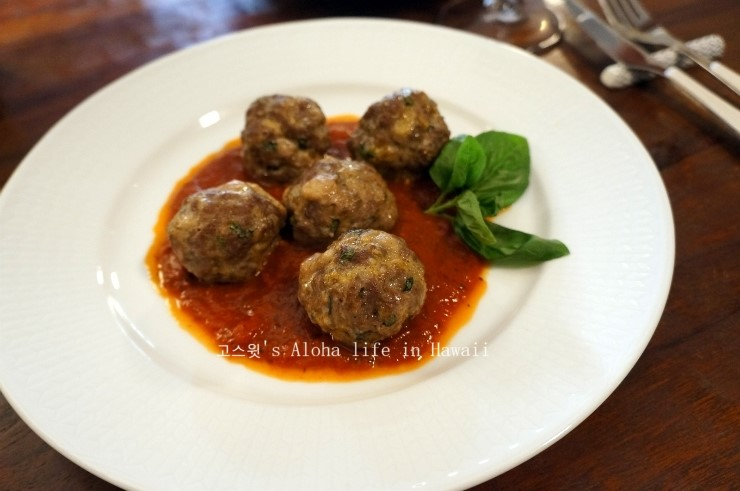meatballs: (290, 168, 397, 321), (167, 186, 286, 271), (251, 92, 332, 171), (362, 86, 447, 160)
